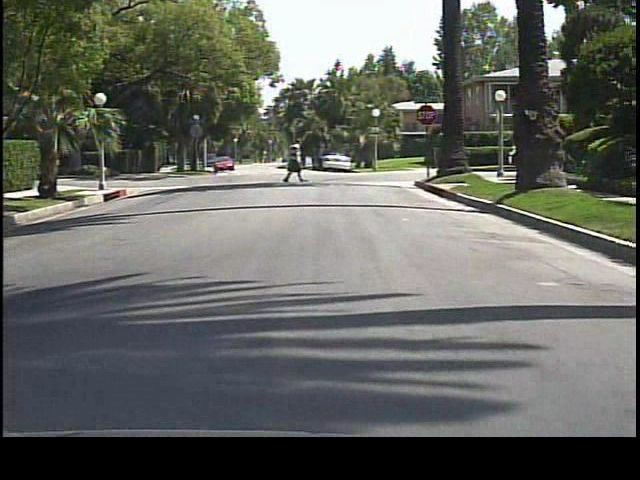person: (283, 137, 308, 186)
